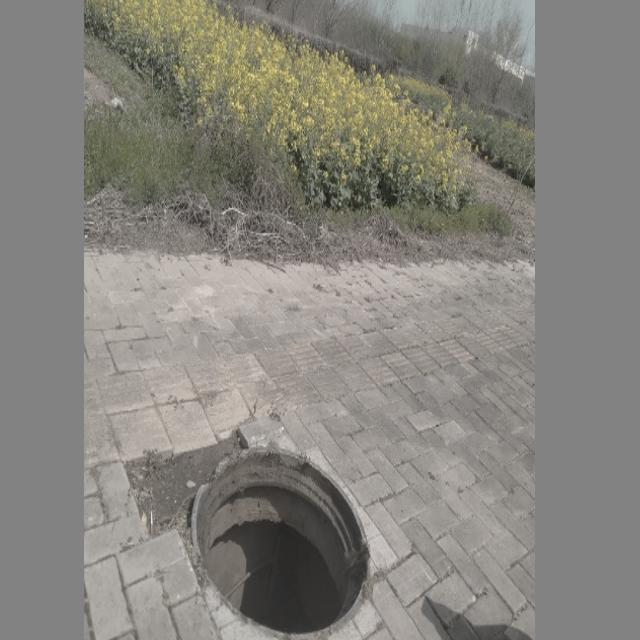lose: (186, 443, 374, 637)
